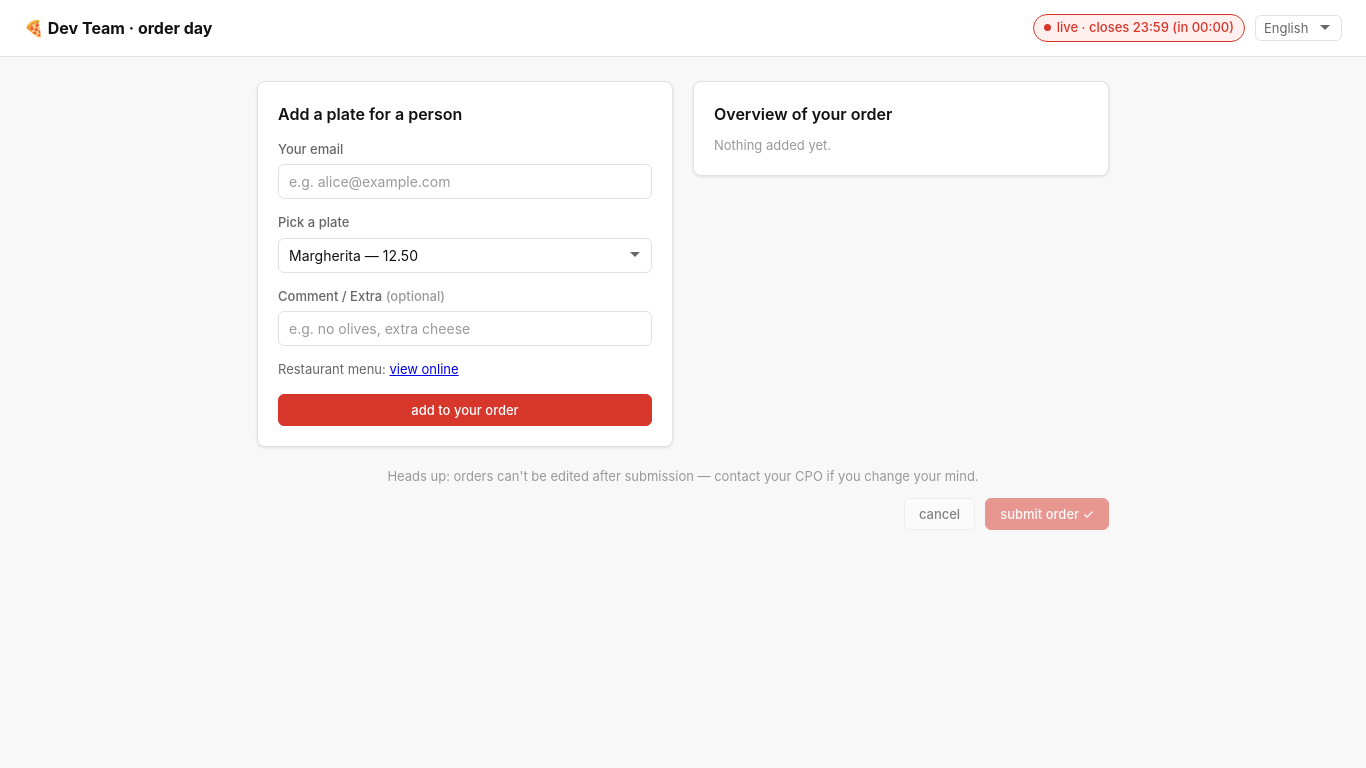
Scenario: TeamOrderPage › email mode › rejects a malformed email
In the field labelled "Your email": (465, 182) [278,164,652,199], type "notanemail"
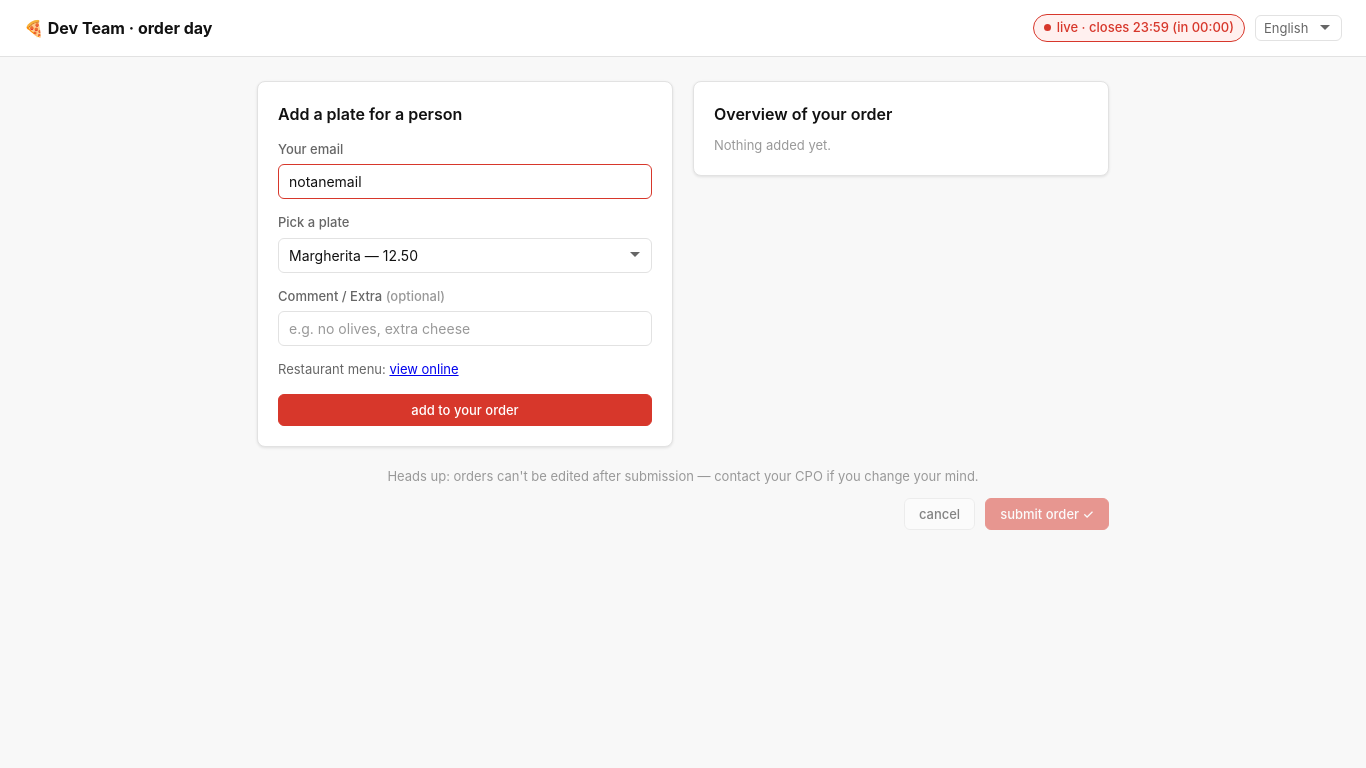
Click the button "add to your order": (465, 410) [278,394,652,426]
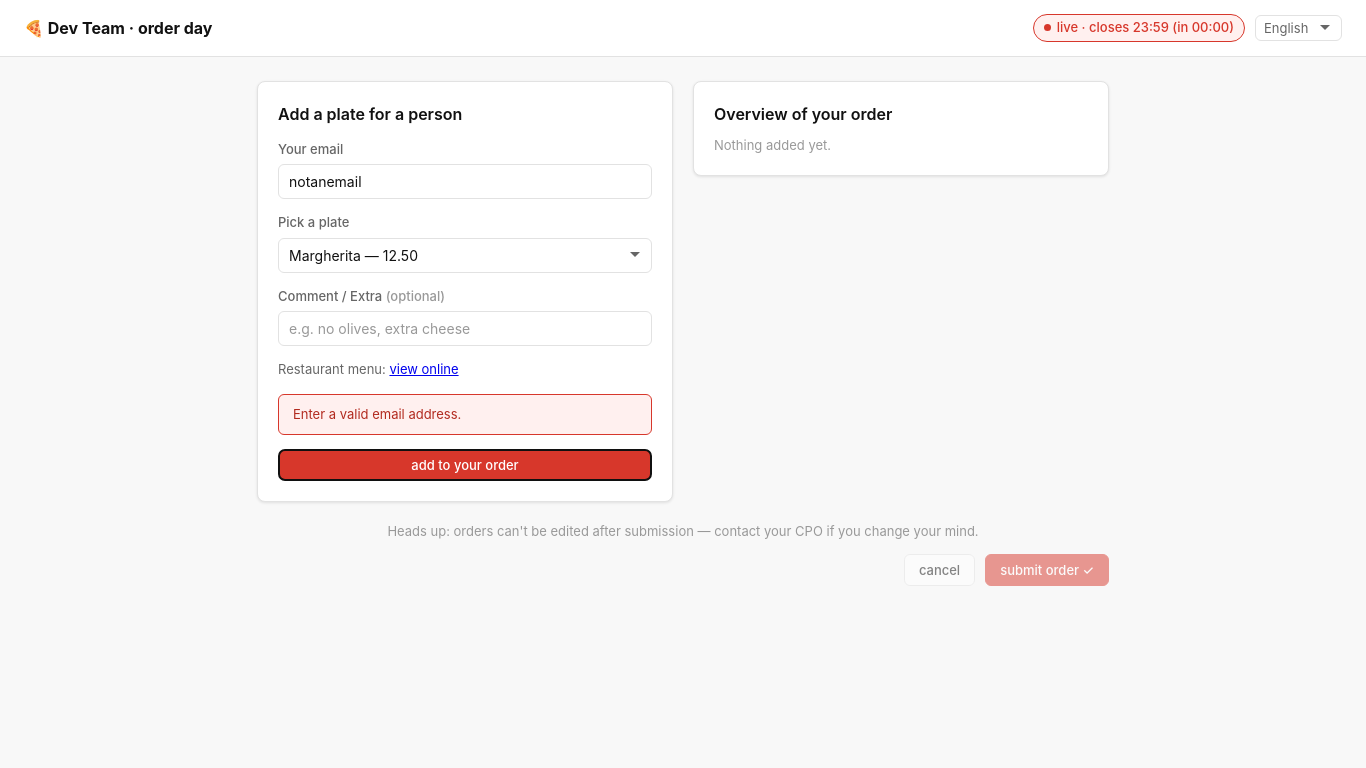
Expected: the text "Enter a valid email address." is shown, [278,394,652,435]
